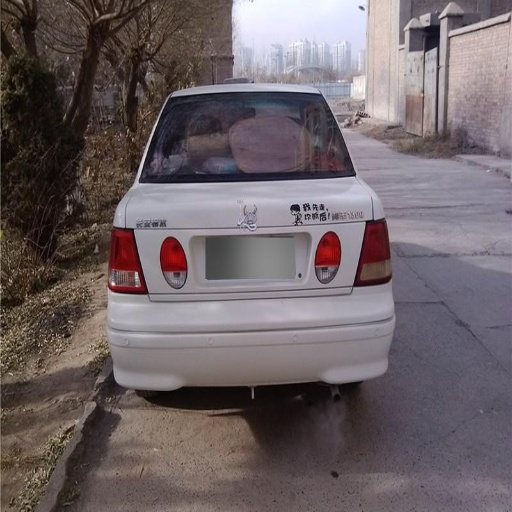back_bumper: (108, 274, 397, 391)
tailgate: (123, 176, 367, 299)
